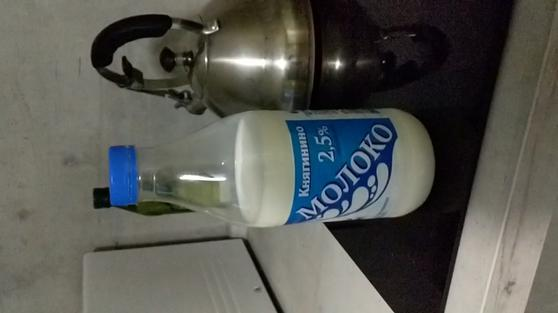milk: (98, 102, 477, 235)
